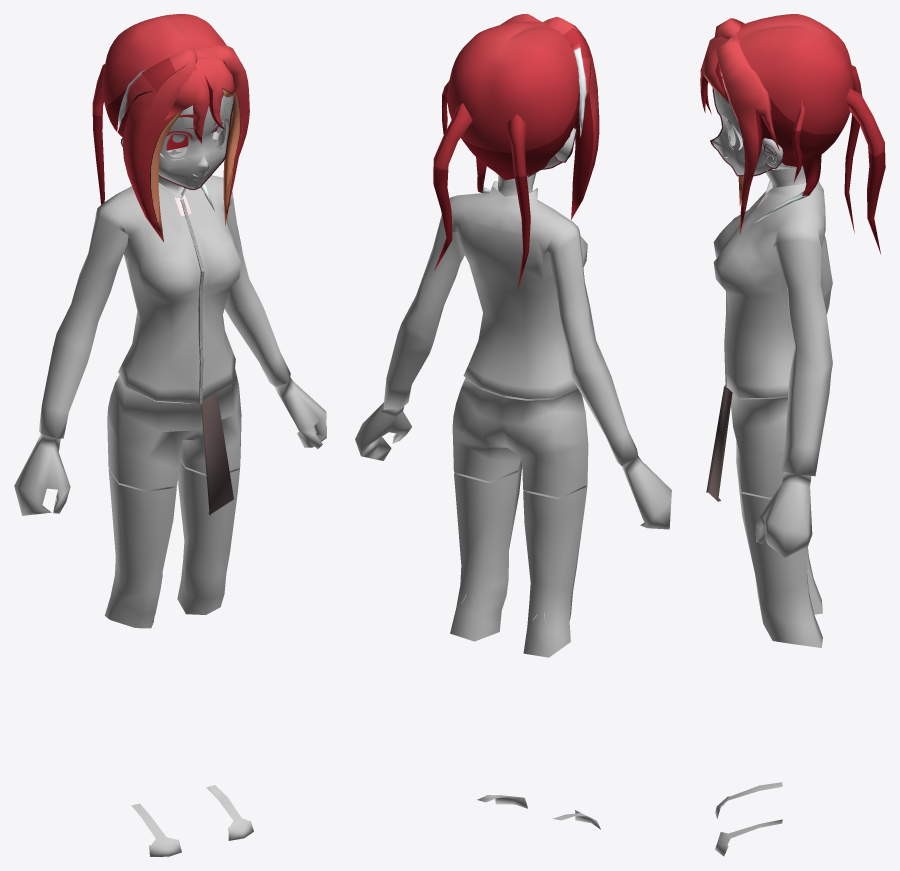
Rendered from anime_charcter.obj.
3 renders of one model, left to right at view 1: azimuth 30°, elevation 25°; view 2: azimuth 150°, elevation 25°; view 3: azimuth 270°, elevation 25°, orthographic.
Parts seen in each view (by area): view 1: Cuerpo, export.001, Cabeza.001_Cabeza.002, Cuerpo.001_Cuerpo.005, Cube_Cube.001; view 2: Cuerpo, export.001; view 3: Cuerpo, export.001, Cabeza.001_Cabeza.002, Cuerpo.001_Cuerpo.005.
Part boxes in pixels (bbox=[...]): Cuerpo: bbox=[14, 152, 326, 856]; export.001: bbox=[92, 14, 249, 241]; Cabeza.001_Cabeza.002: bbox=[120, 95, 234, 190]; Cuerpo.001_Cuerpo.005: bbox=[181, 393, 233, 515]; Cube_Cube.001: bbox=[180, 199, 204, 403]; Cuerpo: bbox=[355, 173, 671, 829]; export.001: bbox=[433, 14, 599, 291]; Cuerpo: bbox=[713, 167, 832, 856]; export.001: bbox=[700, 14, 885, 253]; Cabeza.001_Cabeza.002: bbox=[710, 71, 802, 176]; Cuerpo.001_Cuerpo.005: bbox=[706, 384, 732, 501].
Size of the model in its own units: 2.64 by 6.59 by 1.37.
